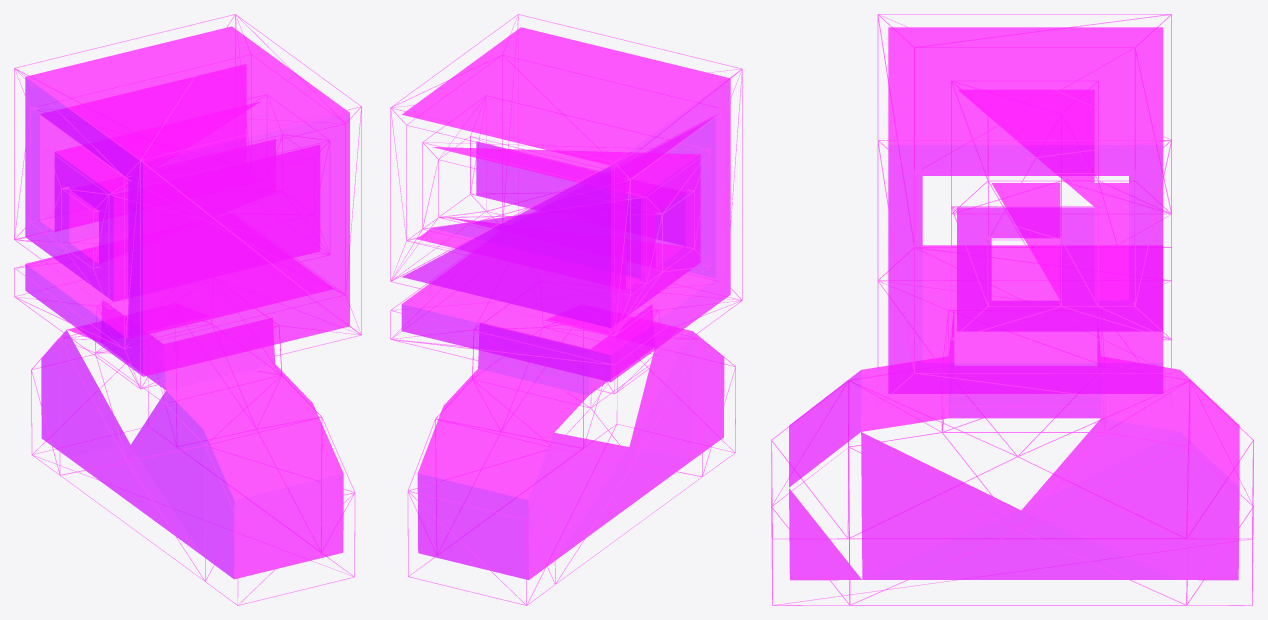
3 renders of one model, left to right at view 1: azimuth 30°, elevation 25°; view 2: azimuth 150°, elevation 25°; view 3: azimuth 270°, elevation 25°, orthographic. The views are drawn at different scales.
Visible parts, largest first — view 1: main, main.001; view 2: main, main.001; view 3: main, main.001.
Part boxes in pixels (<box>): main: <box>25,26,349,579</box>; main.001: <box>14,14,361,605</box>; main: <box>401,27,730,579</box>; main.001: <box>390,14,742,605</box>; main: <box>789,27,1239,580</box>; main.001: <box>771,14,1253,605</box>.
Size of the model in its own units: 2.17 by 3.98 by 3.51.
